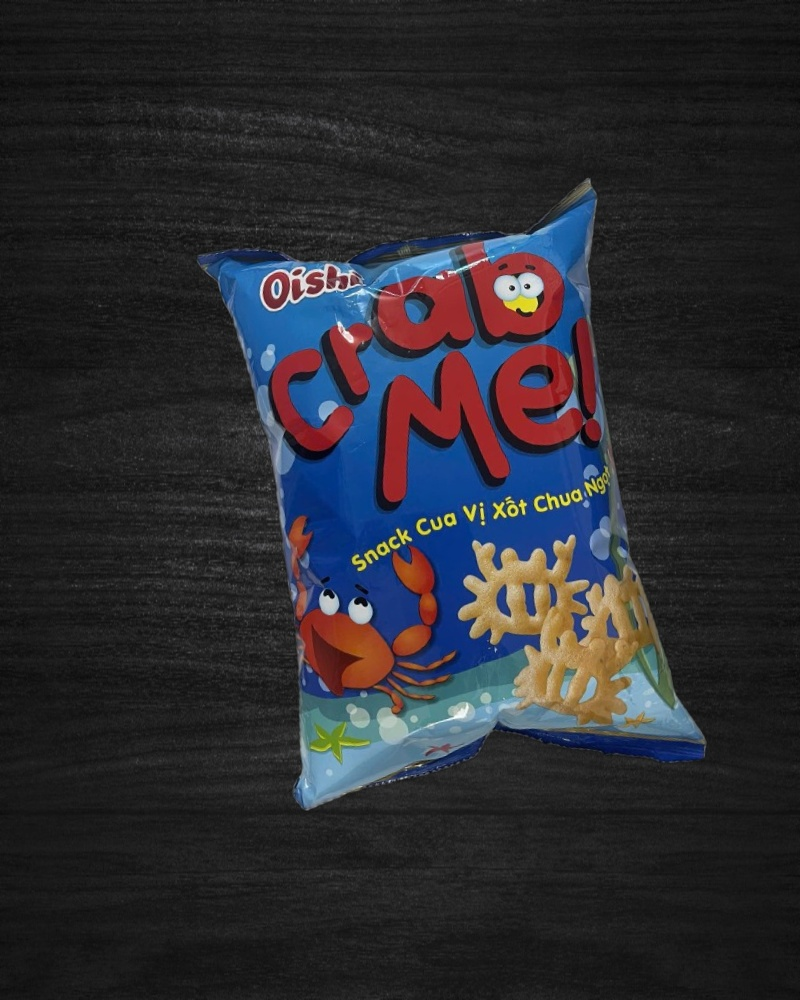Snack cua: (195, 175, 709, 825)
